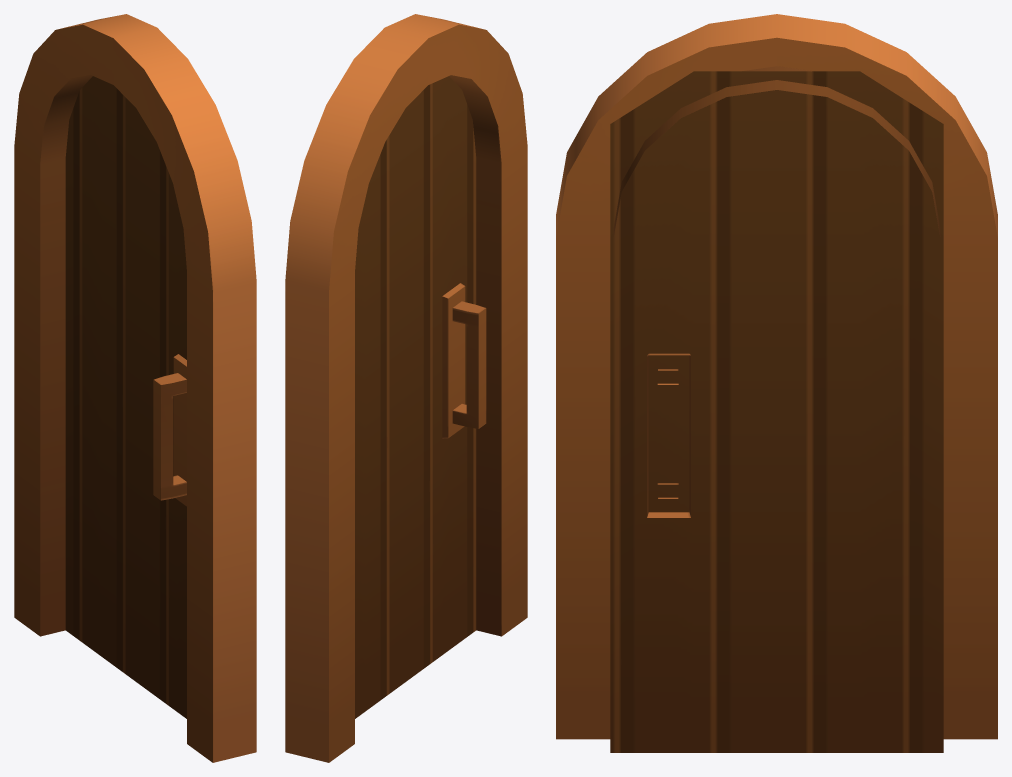
File: MESH_Porte_01.fbx
3 views of the same model, side by side, from view 1: azimuth 30°, elevation 25°; view 2: azimuth 150°, elevation 25°; view 3: azimuth 270°, elevation 25° (orthographic). The views are drawn at different scales.
Visible parts, largest first — view 1: MESH_Porte_01; view 2: MESH_Porte_01; view 3: MESH_Porte_01.
Boxes of the visible parts, left/top/right/bottom form: MESH_Porte_01: left=14, top=14, right=256, bottom=762; MESH_Porte_01: left=285, top=14, right=527, bottom=762; MESH_Porte_01: left=556, top=14, right=997, bottom=752.
Size of the model in its own units: 0.1888 by 2.4 by 1.33.
